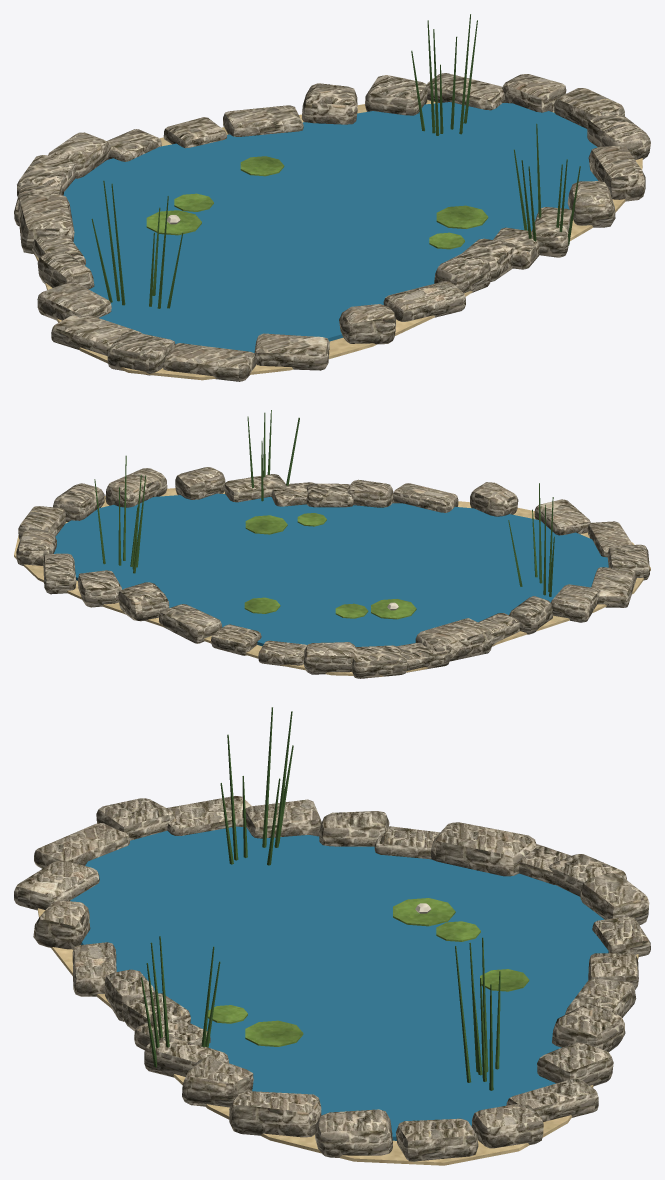
Rendered from water_pond.glb.
3 views of the same model, one above another, from view 1: azimuth 30°, elevation 25°; view 2: azimuth 150°, elevation 25°; view 3: azimuth 270°, elevation 25° (orthographic). The views are drawn at different scales.
Visible parts, largest first — view 1: water.001, stone, leaf_dark, leaf, sand; view 2: water.001, stone, leaf_dark, leaf, sand; view 3: water.001, stone, leaf_dark, leaf, sand.
Boxes of the visible parts, <box> form: water.001: <box>63,102,598,352</box>; stone: <box>14,73,650,381</box>; leaf_dark: <box>91,14,580,308</box>; leaf: <box>146,156,488,249</box>; sand: <box>35,100,642,380</box>; water.001: <box>54,493,608,646</box>; stone: <box>16,467,649,678</box>; leaf_dark: <box>94,410,554,596</box>; leaf: <box>244,513,416,619</box>; sand: <box>14,488,650,676</box>; water.001: <box>70,826,608,1140</box>; stone: <box>14,796,650,1161</box>; leaf_dark: <box>141,707,500,1090</box>; leaf: <box>208,898,529,1046</box>; sand: <box>37,908,638,1165</box>.
Bounding box in the file's own units: 7.34 × 1.45 × 5.53.
Materials: 6 (5 with a texture image).
